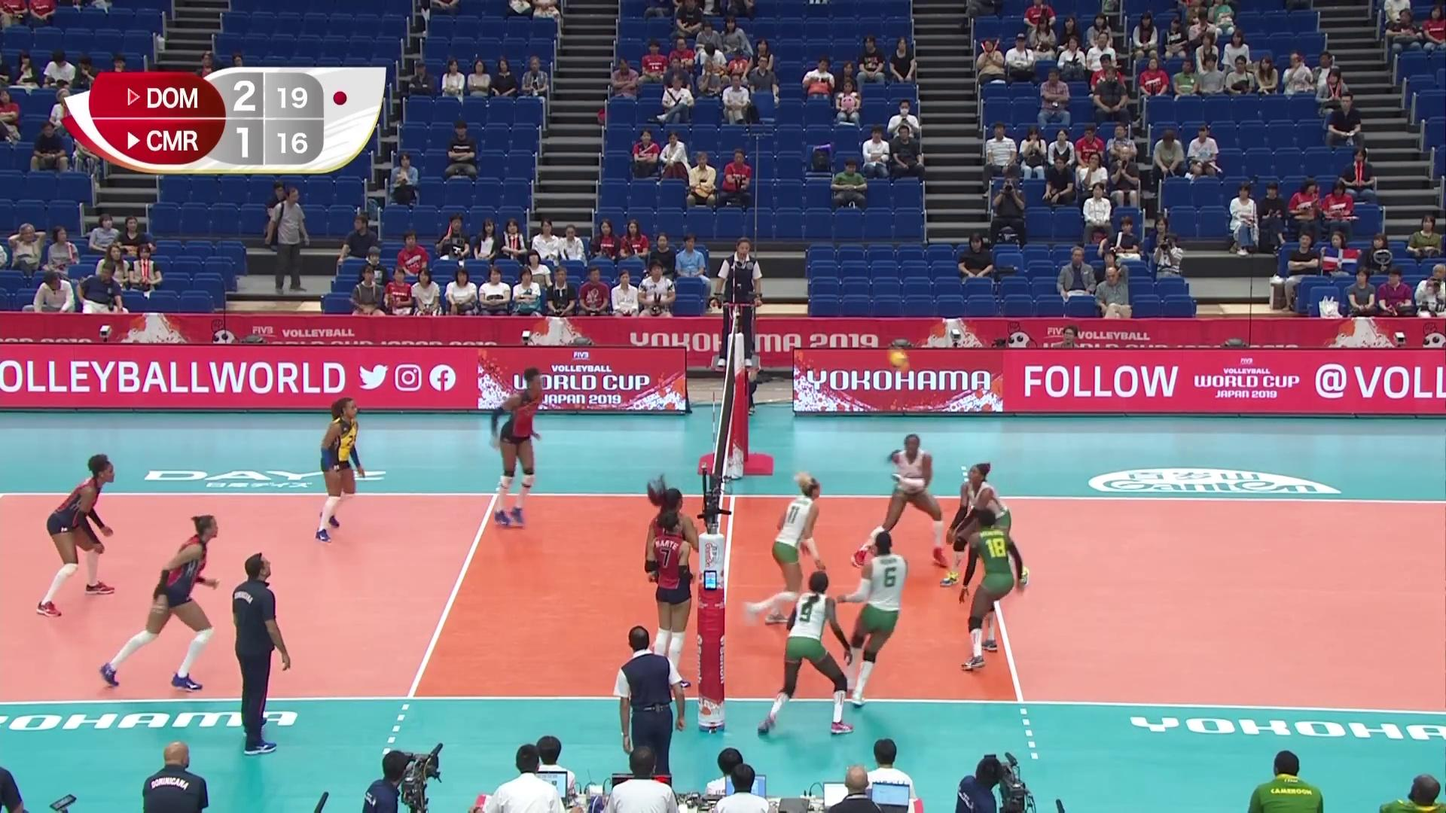player: (97, 513, 222, 693), (758, 572, 858, 740), (852, 435, 946, 570), (745, 476, 828, 626), (840, 531, 910, 708), (38, 458, 117, 612), (942, 462, 1031, 589), (643, 513, 700, 698), (962, 509, 1025, 669), (645, 485, 702, 660), (310, 397, 378, 543), (488, 367, 546, 528)
refree: (610, 628, 687, 779), (717, 238, 762, 367)
